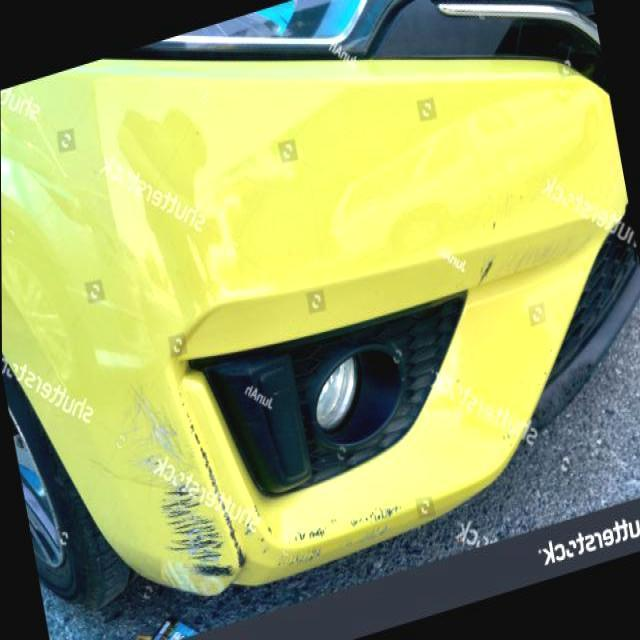minor: (289, 527, 331, 543), (475, 261, 496, 285)
moderate: (162, 465, 240, 593), (332, 507, 402, 531)
